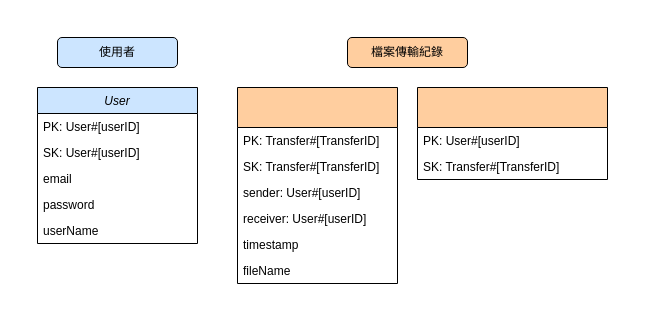
Image size: 645x325. Some labels were removed from this diagram. The shapes that lost their labels are listed below. From the top down, each one's box as (x1, y1, x2, y2) in pixels, then its label:
(416, 86, 608, 180): Transfer （在 sender 和 receiver 各存一筆）
(236, 86, 398, 284): Transfer （主紀錄）
